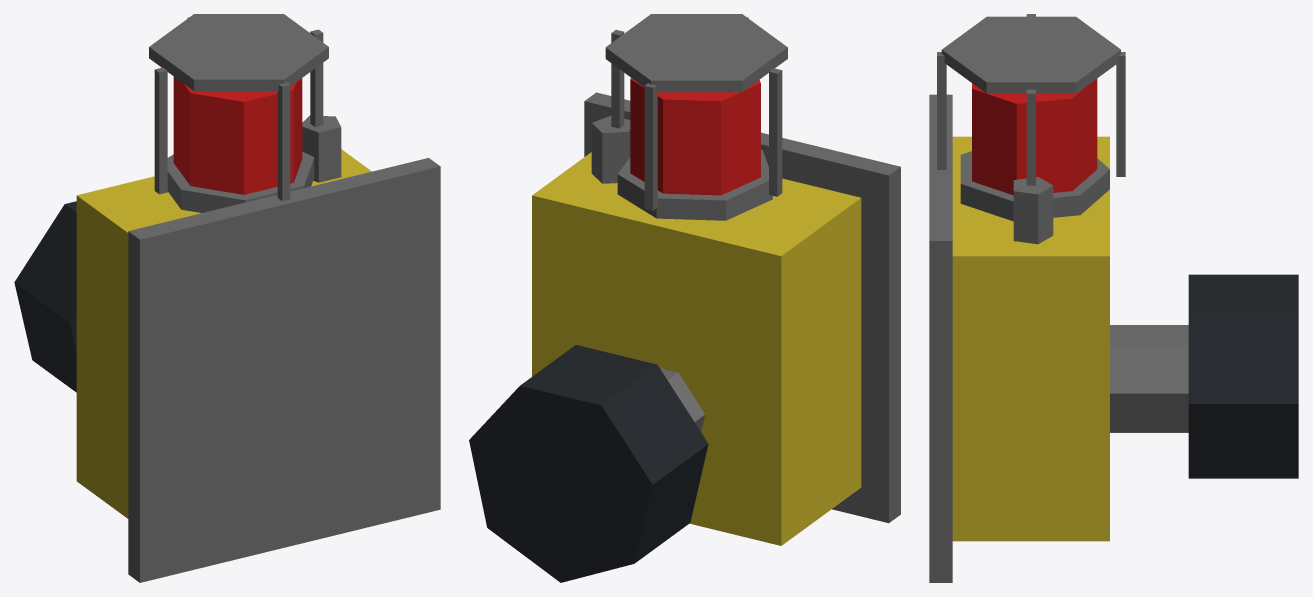
Rendered from alarm_siren.glb.
3 renders of one model, left to right at view 1: azimuth 30°, elevation 25°; view 2: azimuth 150°, elevation 25°; view 3: azimuth 270°, elevation 25°, orthographic.
Visible parts, largest first — view 1: alarm_siren; view 2: alarm_siren; view 3: alarm_siren.
Boxes of the visible parts, x1,y1,x2,y2 form: alarm_siren: (14,14,440,582); alarm_siren: (469,14,900,582); alarm_siren: (929,14,1298,582).
Size of the model in its own units: 0.22 by 0.323 by 0.235.
